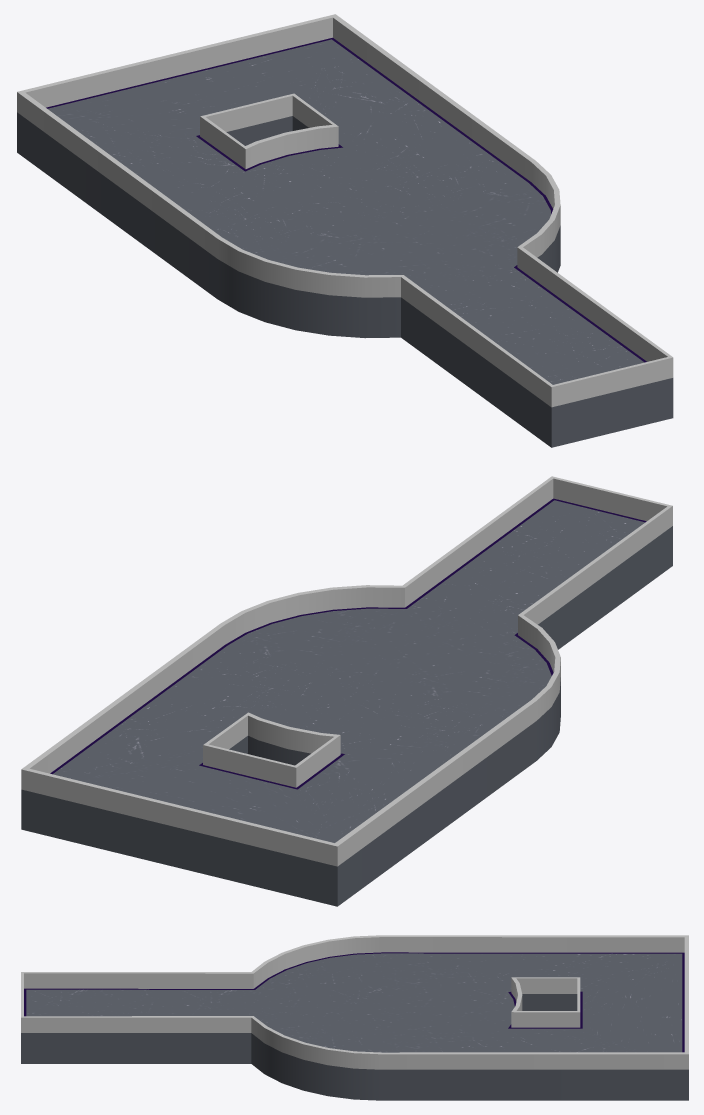
The model's file is Duel_Stage 8.fbx.
3 views of the same model, one above another, from view 1: azimuth 30°, elevation 25°; view 2: azimuth 150°, elevation 25°; view 3: azimuth 270°, elevation 25° (orthographic). The views are drawn at different scales.
Visible parts, largest first — view 1: Cylinder.036, Cylinder.037, Cylinder.005; view 2: Cylinder.036, Cylinder.037, Cylinder.005; view 3: Cylinder.036, Cylinder.037, Cylinder.005.
Part boxes in pixels (x1,y1,x2,y2): Cylinder.036: [17, 39, 673, 447]; Cylinder.037: [17, 14, 673, 407]; Cylinder.005: [46, 37, 646, 362]; Cylinder.036: [21, 500, 672, 906]; Cylinder.037: [21, 476, 672, 866]; Cylinder.005: [50, 498, 646, 789]; Cylinder.036: [21, 953, 688, 1100]; Cylinder.037: [21, 935, 688, 1069]; Cylinder.005: [24, 952, 684, 1052].
Size of the model in its own units: 3391 by 600 by 7919.
